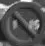No waiting: (2, 2, 42, 42)
